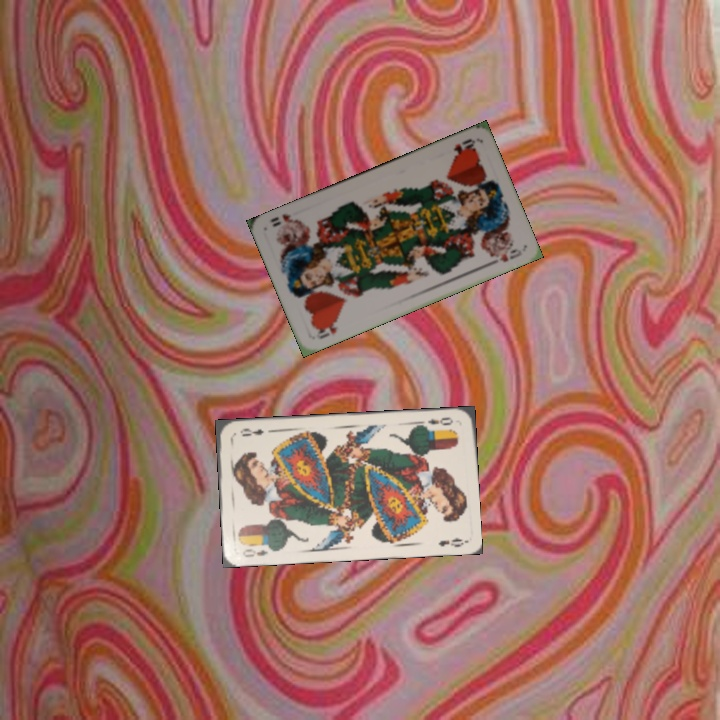EO: (424, 413, 455, 428), (239, 545, 270, 559)
HO: (449, 134, 478, 159), (312, 317, 340, 342)
